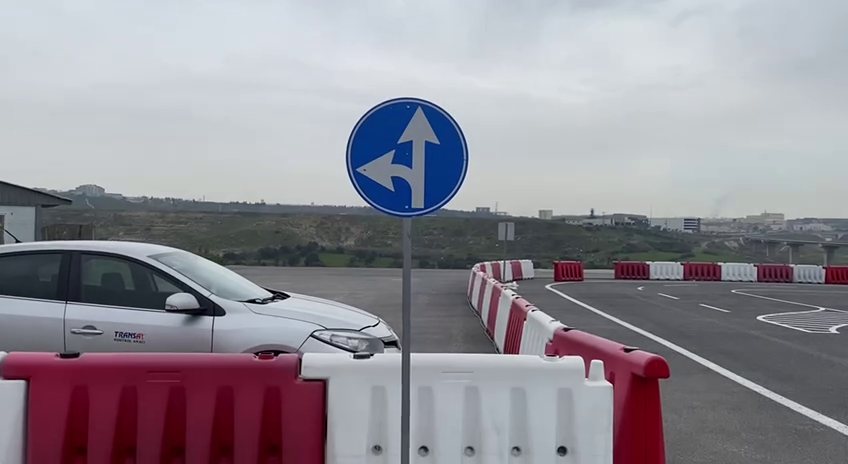forwardAndLeft: (343, 94, 472, 221)
